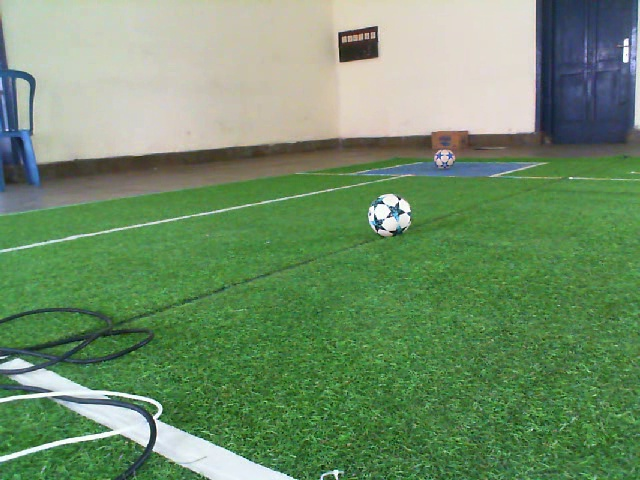ball: (366, 191, 415, 239), (432, 147, 457, 171)
